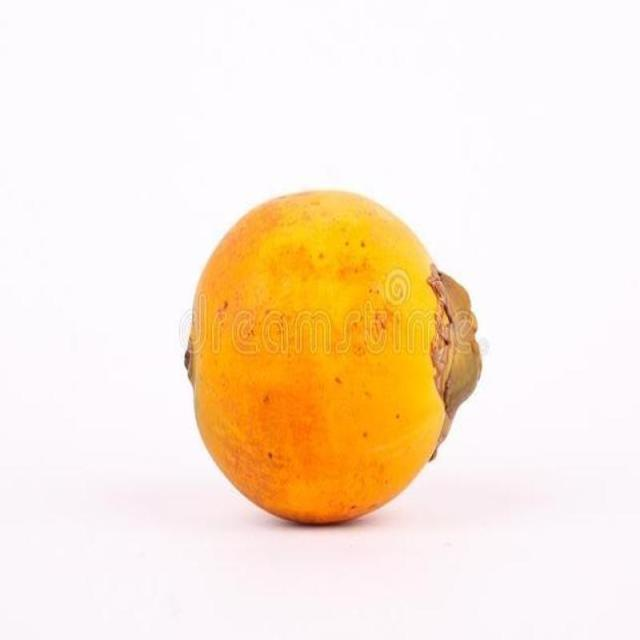good: (184, 190, 484, 528)
